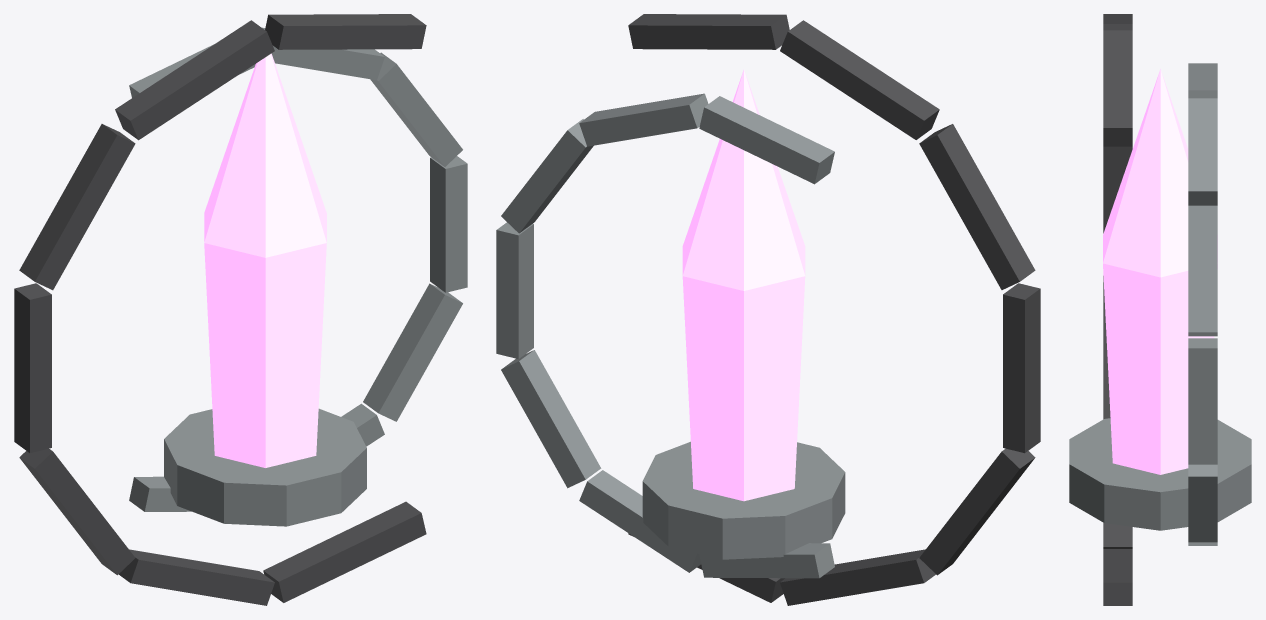
The model's file is boss-queen-veilheart.glb.
The picture shows the model from 3 angles, left to right: view 1: azimuth 30°, elevation 25°; view 2: azimuth 150°, elevation 25°; view 3: azimuth 270°, elevation 25°; orthographic projection. The views are drawn at different scales.
Parts seen in each view (by area): view 1: veil-core, veil-collar, right-veil-2, right-veil-1, right-veil-6, right-veil-3, right-veil-0, left-veil-2, right-veil-5, left-veil-3, right-veil-4, left-veil-4 (+4 smaller); view 2: veil-core, veil-collar, right-veil-2, right-veil-1, right-veil-3, right-veil-0, left-veil-2, left-veil-6, left-veil-3, right-veil-5, right-veil-4, left-veil-5 (+4 smaller); view 3: veil-core, veil-collar, left-veil-4, left-veil-3, right-veil-0, left-veil-5, left-veil-2, right-veil-6, right-veil-3, left-veil-6, right-veil-5, right-veil-4 (+1 smaller).
Part boxes in pixels (<box>): veil-core: <box>204,53,326,467</box>; veil-collar: <box>164,408,366,526</box>; right-veil-2: <box>19,124,135,290</box>; right-veil-1: <box>115,20,274,140</box>; right-veil-6: <box>263,501,426,602</box>; right-veil-3: <box>14,283,51,452</box>; right-veil-0: <box>265,14,426,49</box>; left-veil-2: <box>363,283,462,421</box>; right-veil-5: <box>118,549,274,605</box>; left-veil-3: <box>430,156,467,292</box>; right-veil-4: <box>19,448,135,575</box>; left-veil-4: <box>370,52,462,166</box>; veil-core: <box>682,69,805,501</box>; veil-collar: <box>642,441,845,559</box>; right-veil-2: <box>919,124,1035,289</box>; right-veil-1: <box>780,20,939,139</box>; right-veil-3: <box>1003,283,1040,453</box>; right-veil-0: <box>628,14,789,49</box>; left-veil-2: <box>501,350,601,488</box>; left-veil-6: <box>699,96,834,184</box>; left-veil-3: <box>496,222,533,358</box>; right-veil-5: <box>780,549,935,605</box>; right-veil-4: <box>919,448,1035,575</box>; left-veil-5: <box>579,93,708,146</box>; veil-core: <box>1103,69,1217,474</box>; veil-collar: <box>1069,418,1251,530</box>; left-veil-4: <box>1188,205,1217,336</box>; left-veil-3: <box>1188,338,1217,464</box>; right-veil-0: <box>1103,30,1132,146</box>; left-veil-5: <box>1188,98,1217,205</box>; left-veil-2: <box>1188,464,1217,542</box>; right-veil-6: <box>1103,549,1132,605</box>; right-veil-3: <box>1103,146,1132,233</box>; left-veil-6: <box>1188,63,1217,98</box>; right-veil-5: <box>1103,523,1132,548</box>; right-veil-4: <box>1103,276,1110,419</box>.
Size of the model in its own units: 0.985 by 1.12 by 0.3424.
